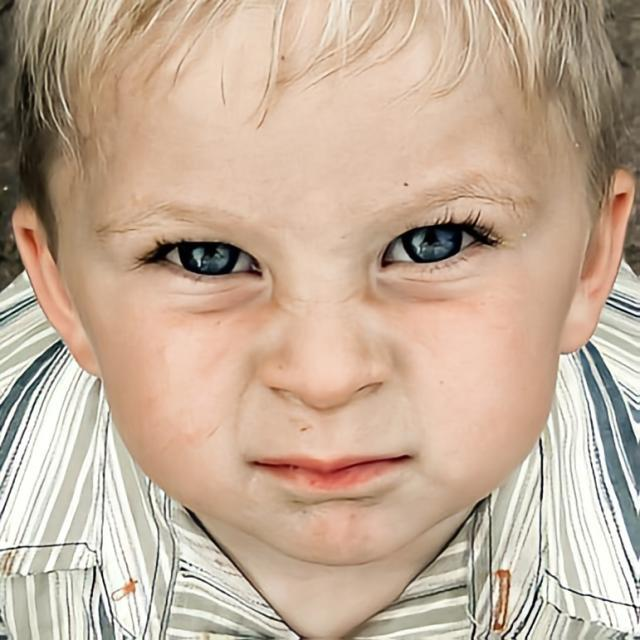anger: (108, 26, 550, 566)
